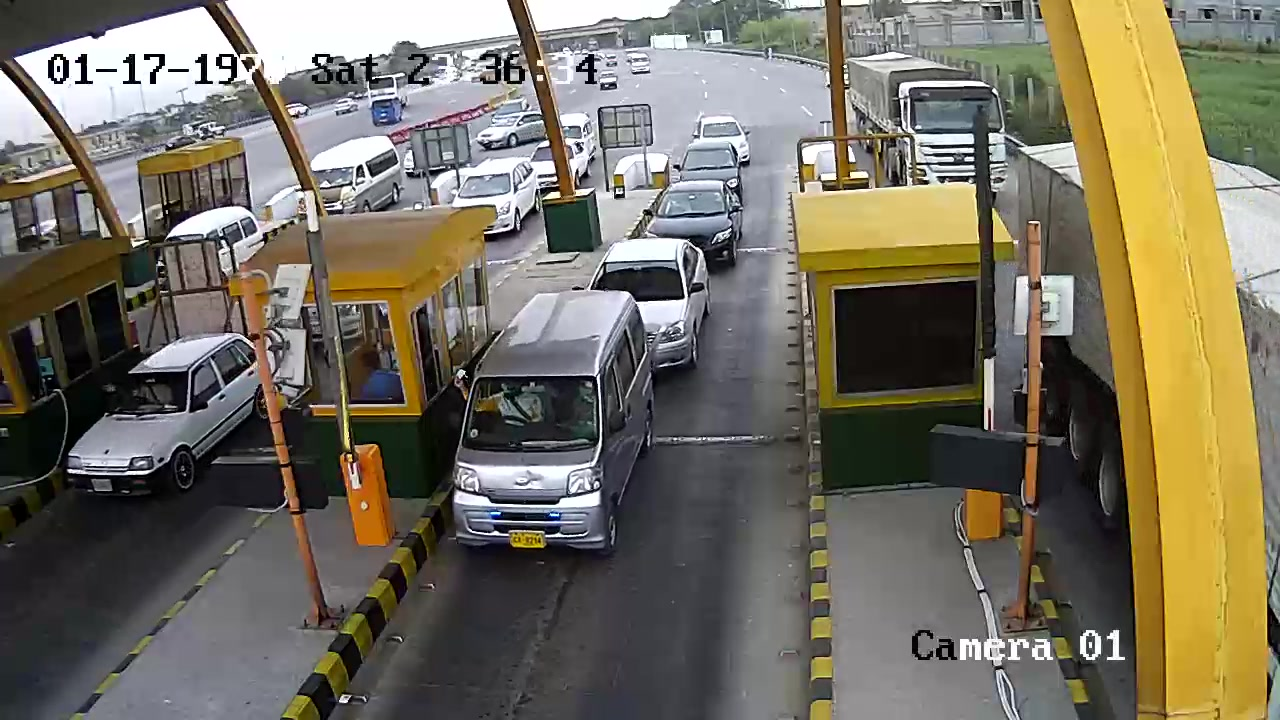F1: (451, 279, 664, 565)
